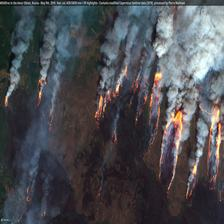fire: (145, 67, 218, 199), (93, 72, 145, 125)
